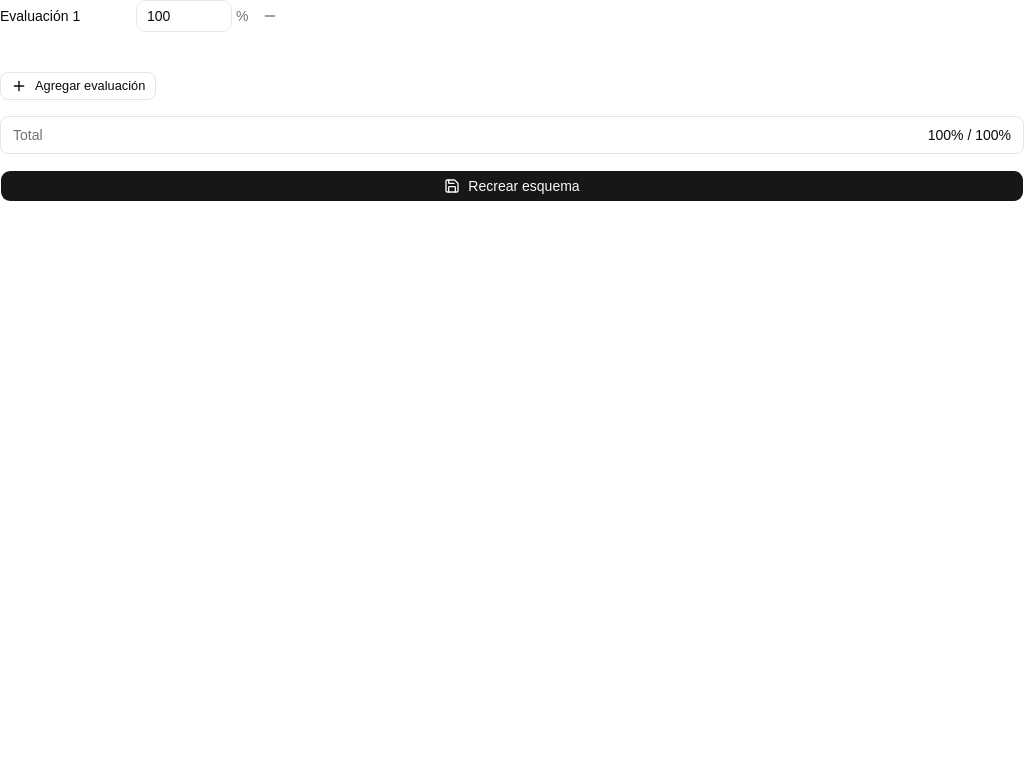
Test case: EvaluationSchemeForm — recreate mode › shows AlertDialog on submit in recreate mode
What coordinates should you click on to do the following:
click the button "Recrear esquema"
I would click on:
 (512, 186)
Its box is [0, 170, 1023, 202].
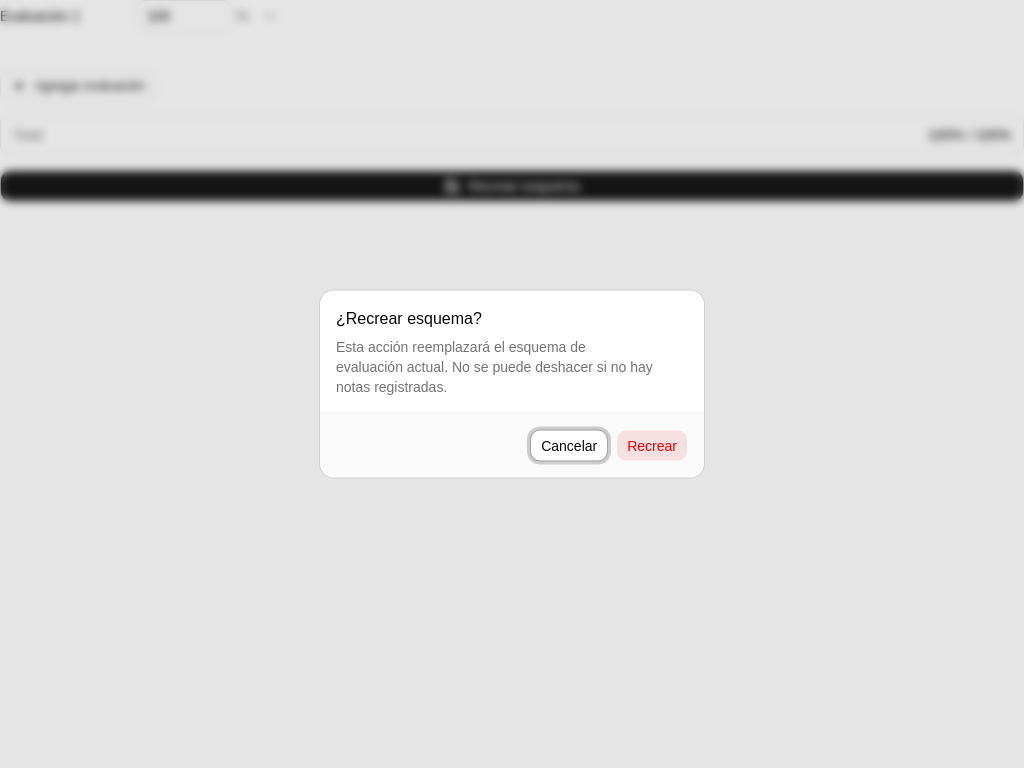
Expected: the dialog is shown, [320, 290, 704, 478]
